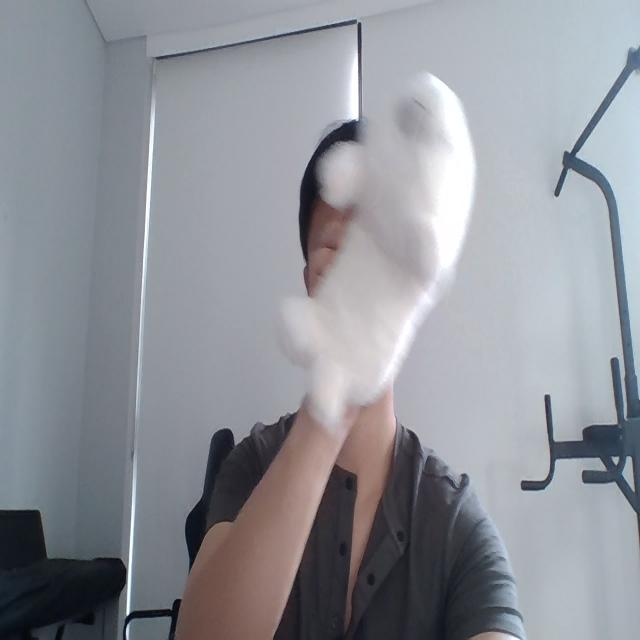seal_bb: (281, 75, 478, 427)
